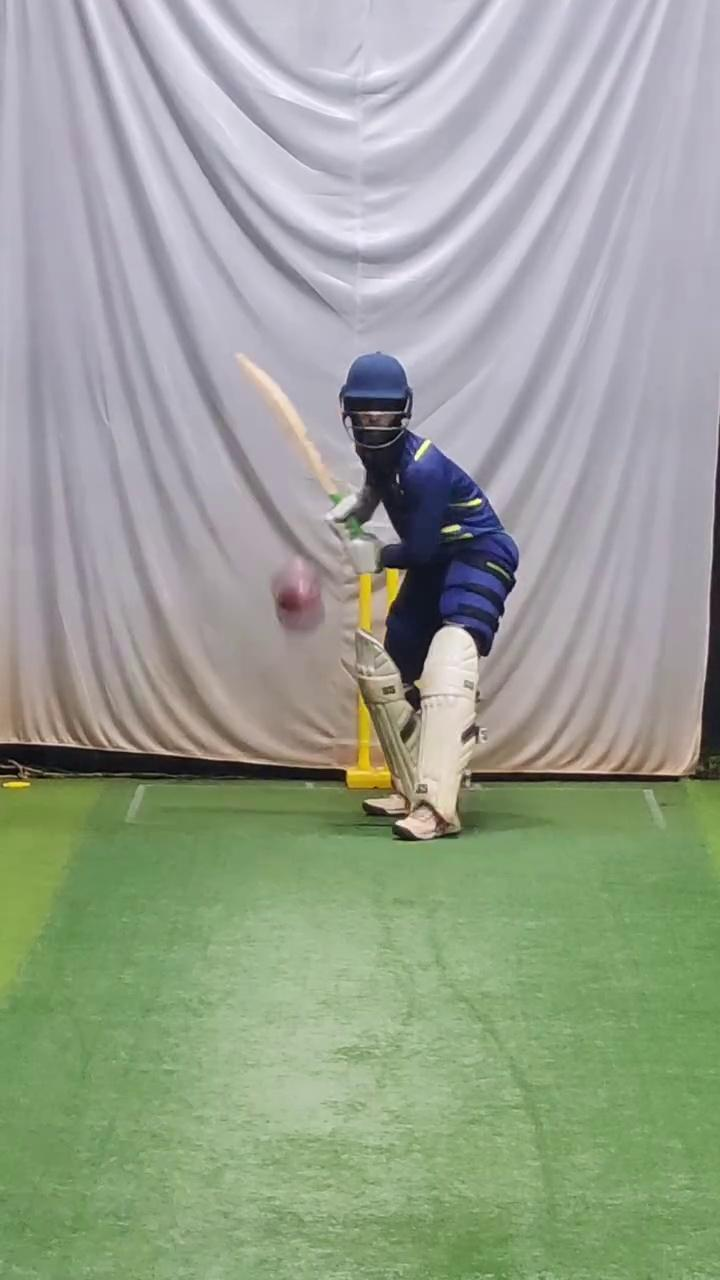bat: (228, 337, 349, 502)
